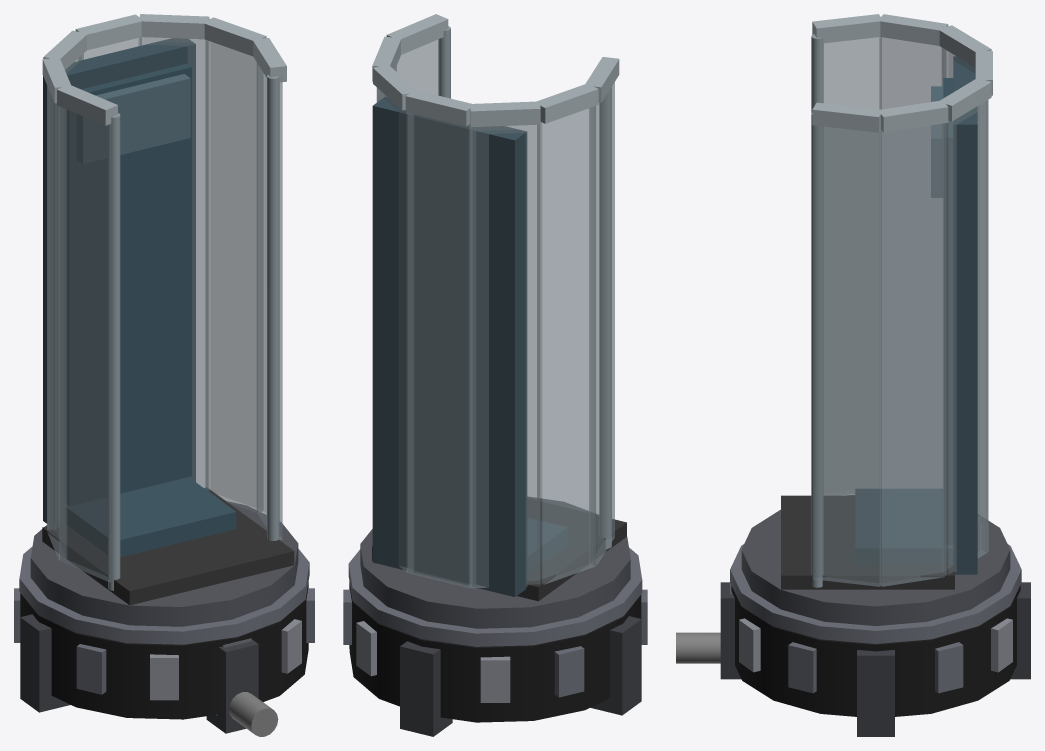
File: CMU3DCryoPodOpenCloud.glb
3 renders of one model, left to right at view 1: azimuth 30°, elevation 25°; view 2: azimuth 150°, elevation 25°; view 3: azimuth 270°, elevation 25°, orthographic.
Visible parts, largest first — view 1: recessed upright padded bed, curved side rear glass panel 1, curved side rear glass panel 6, circular lower machine plinth, physical rear bed frame, inner open footwell, raised circular rim, curved side rear glass panel 5, curved side rear glass panel 2, lower bed seat, source pale pedestal band, curved side rear glass panel 0 (+18 smaller); view 2: physical rear bed frame, curved side rear glass panel 3, curved side rear glass panel 5, curved side rear glass panel 4, circular lower machine plinth, curved side rear glass panel 6, raised circular rim, source pale pedestal band, curved side rear glass panel 2, entry edge upright 3.7088246604879505, inner open footwell, radial pedestal foot 1 (+14 smaller); view 3: curved side rear glass panel 0, curved side rear glass panel 1, curved side rear glass panel 5, curved side rear glass panel 6, circular lower machine plinth, physical rear bed frame, curved side rear glass panel 2, raised circular rim, inner open footwell, lower bed seat, source pale pedestal band, entry edge upright -0.5672320068981571 (+19 smaller).
Boxes of the visible parts, bbox=[...] form: recessed upright padded bed: bbox=[67, 63, 191, 505]; curved side rear glass panel 1: bbox=[205, 40, 263, 512]; curved side rear glass panel 6: bbox=[60, 107, 110, 581]; circular lower machine plinth: bbox=[20, 582, 308, 719]; physical rear bed frame: bbox=[43, 38, 195, 524]; inner open footwell: bbox=[42, 488, 294, 605]; raised circular rim: bbox=[30, 501, 298, 626]; curved side rear glass panel 5: bbox=[47, 86, 66, 560]; curved side rear glass panel 2: bbox=[139, 37, 208, 490]; lower bed seat: bbox=[67, 477, 236, 557]; source pale pedestal band: bbox=[19, 546, 309, 644]; curved side rear glass panel 0: bbox=[257, 63, 282, 539]; physical rear bed frame: bbox=[372, 97, 527, 596]; curved side rear glass panel 3: bbox=[408, 112, 472, 587]; curved side rear glass panel 5: bbox=[537, 106, 595, 584]; curved side rear glass panel 4: bbox=[470, 124, 540, 588]; circular lower machine plinth: bbox=[349, 584, 641, 722]; curved side rear glass panel 6: bbox=[589, 82, 614, 565]; raised circular rim: bbox=[360, 497, 630, 628]; source pale pedestal band: bbox=[348, 547, 642, 646]; curved side rear glass panel 2: bbox=[377, 88, 413, 572]; entry edge upright 3.7088246604879505: bbox=[599, 87, 611, 548]; inner open footwell: bbox=[372, 498, 626, 601]; radial pedestal foot 1: bbox=[400, 641, 452, 736]; curved side rear glass panel 0: bbox=[813, 125, 881, 586]; curved side rear glass panel 1: bbox=[879, 123, 946, 586]; curved side rear glass panel 5: bbox=[879, 37, 946, 488]; curved side rear glass panel 6: bbox=[823, 37, 881, 495]; circular lower machine plinth: bbox=[731, 585, 1020, 716]; physical rear bed frame: bbox=[953, 56, 977, 574]; curved side rear glass panel 2: bbox=[942, 100, 987, 574]; raised circular rim: bbox=[741, 495, 1010, 625]; inner open footwell: bbox=[781, 495, 954, 589]; lower bed seat: bbox=[855, 489, 952, 564]; source pale pedestal band: bbox=[730, 544, 1021, 643]; entry edge upright -0.5672320068981571: bbox=[811, 112, 823, 587].
Bounding box in the file's own units: 0.9 × 1.94 × 1.03.
14 materials, 1 textured.
